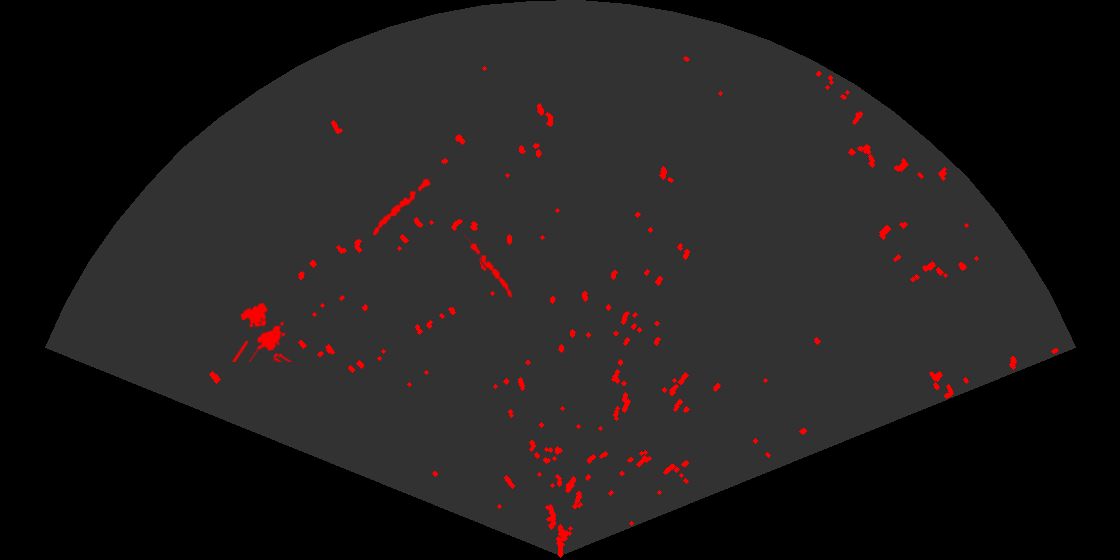cage: (230, 301, 294, 362)
chain: (371, 172, 435, 237), (464, 234, 517, 301)
